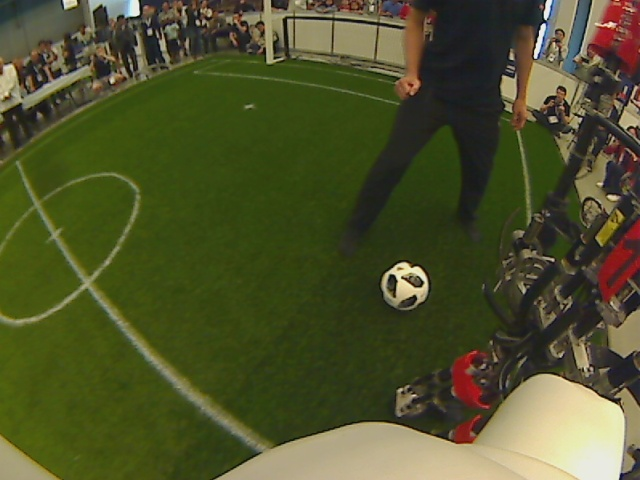ball: (378, 261, 433, 312)
